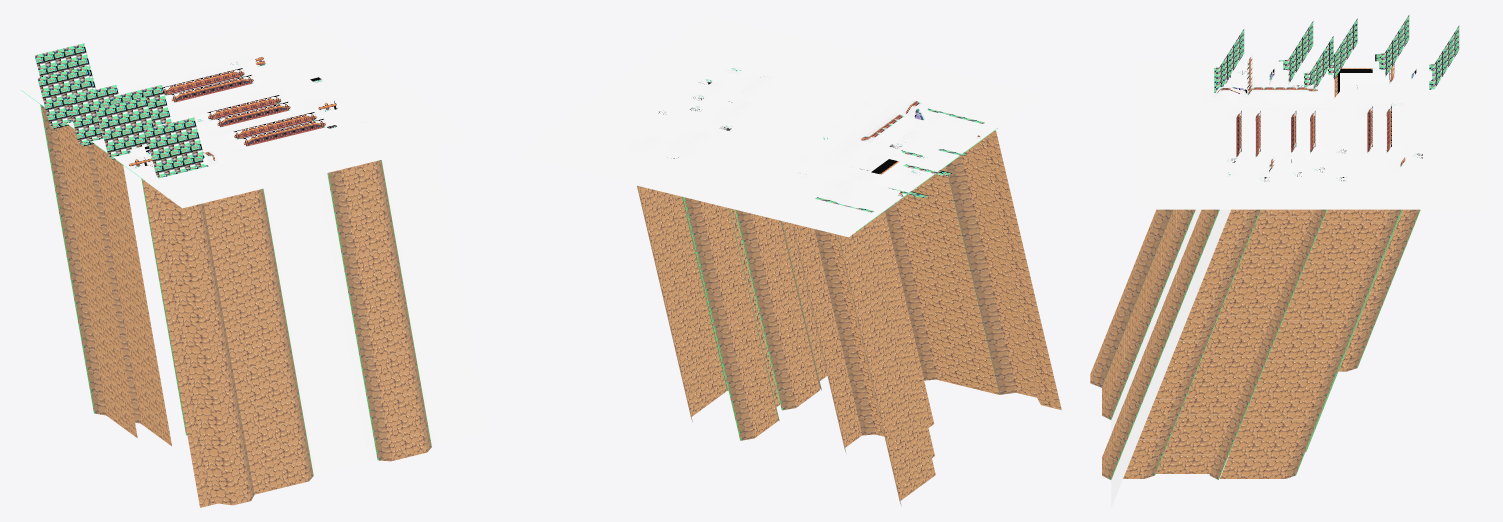
Rendered from Map2.fbx.
3 views of the same model, side by side, from view 1: azimuth 30°, elevation 25°; view 2: azimuth 150°, elevation 25°; view 3: azimuth 270°, elevation 25° (orthographic). The views are drawn at different scales.
Parts seen in each view (by area): view 1: Map2; view 2: Map2; view 3: Map2.
Boxes of the visible parts, x1=… form: Map2: x1=14, y1=14, x2=486, y2=507; Map2: x1=515, y1=14, x2=1061, y2=506; Map2: x1=1090, y1=14, x2=1488, y2=507.
Bounding box in the file's own units: 3364 × 3420 × 3645.
